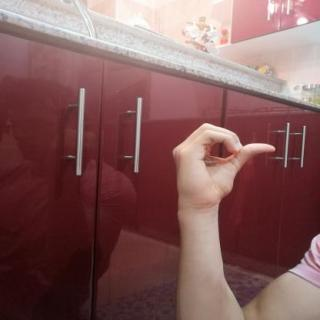WAW: (159, 116, 286, 216)
